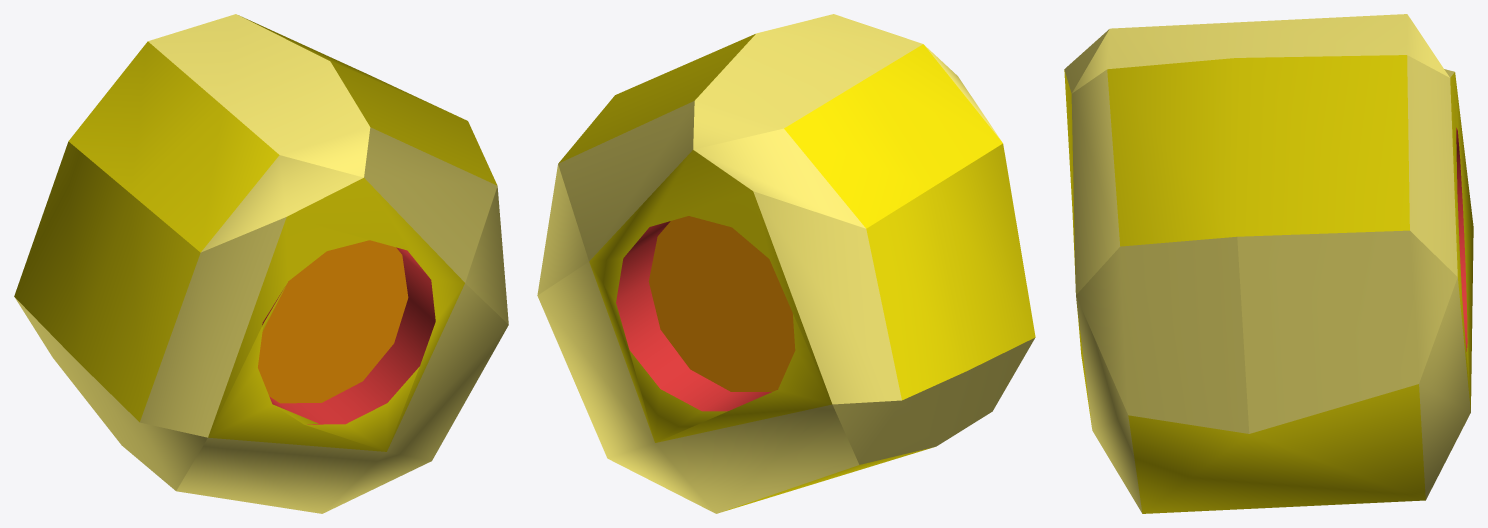
File: CIS4.fbx
The picture shows the model from 3 angles, left to right: view 1: azimuth 30°, elevation 25°; view 2: azimuth 150°, elevation 25°; view 3: azimuth 270°, elevation 25°; orthographic projection. The views are drawn at different scales.
Visible parts, largest first — view 1: Box001; view 2: Box001; view 3: Box001.
Part boxes in pixels (x1,y1,x2,y2): Box001: (14, 14, 508, 513); Box001: (537, 14, 1035, 513); Box001: (1064, 14, 1473, 513).
Size of the model in its own units: 288 by 294 by 241.
